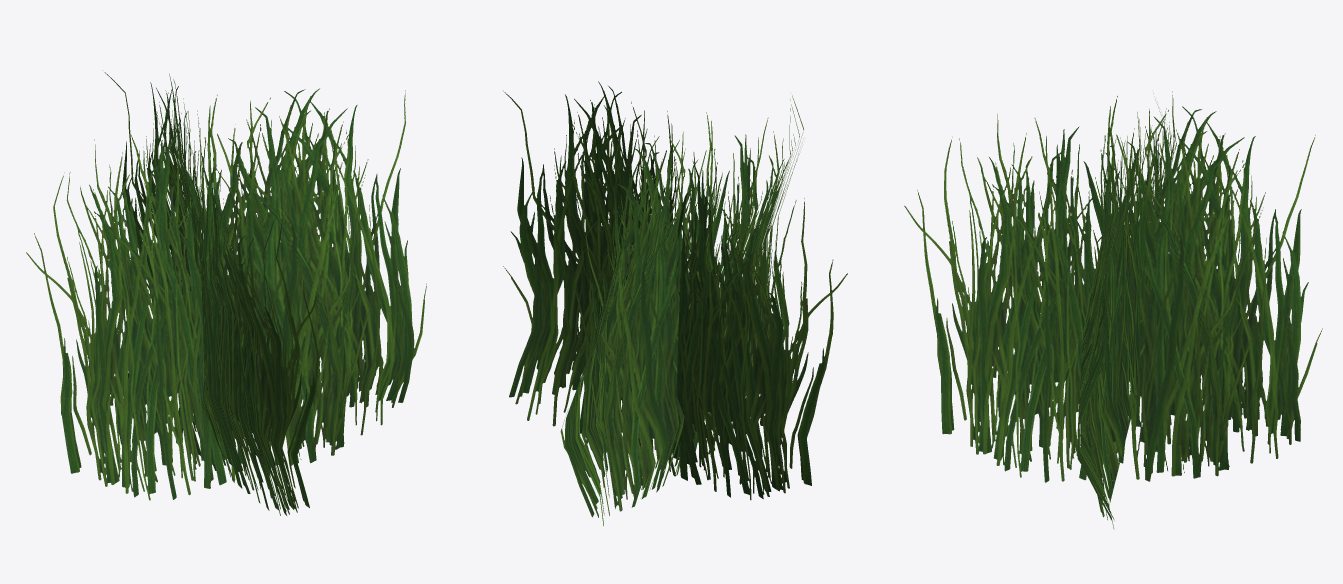
File: Grass.fbx
The picture shows the model from 3 angles, left to right: view 1: azimuth 30°, elevation 25°; view 2: azimuth 150°, elevation 25°; view 3: azimuth 270°, elevation 25°; orthographic projection. The views are drawn at different scales.
Parts seen in each view (by area): view 1: pPlane2, pPlane1; view 2: pPlane2, pPlane1; view 3: pPlane1, pPlane2.
Boxes of the visible parts, bbox=[...] form: pPlane2: bbox=[26, 88, 426, 500]; pPlane1: bbox=[104, 72, 319, 515]; pPlane2: bbox=[503, 81, 847, 500]; pPlane1: bbox=[560, 95, 803, 525]; pPlane1: bbox=[904, 96, 1322, 482]; pPlane2: bbox=[1077, 91, 1176, 529].
Size of the model in its own units: 102 by 104 by 100.
